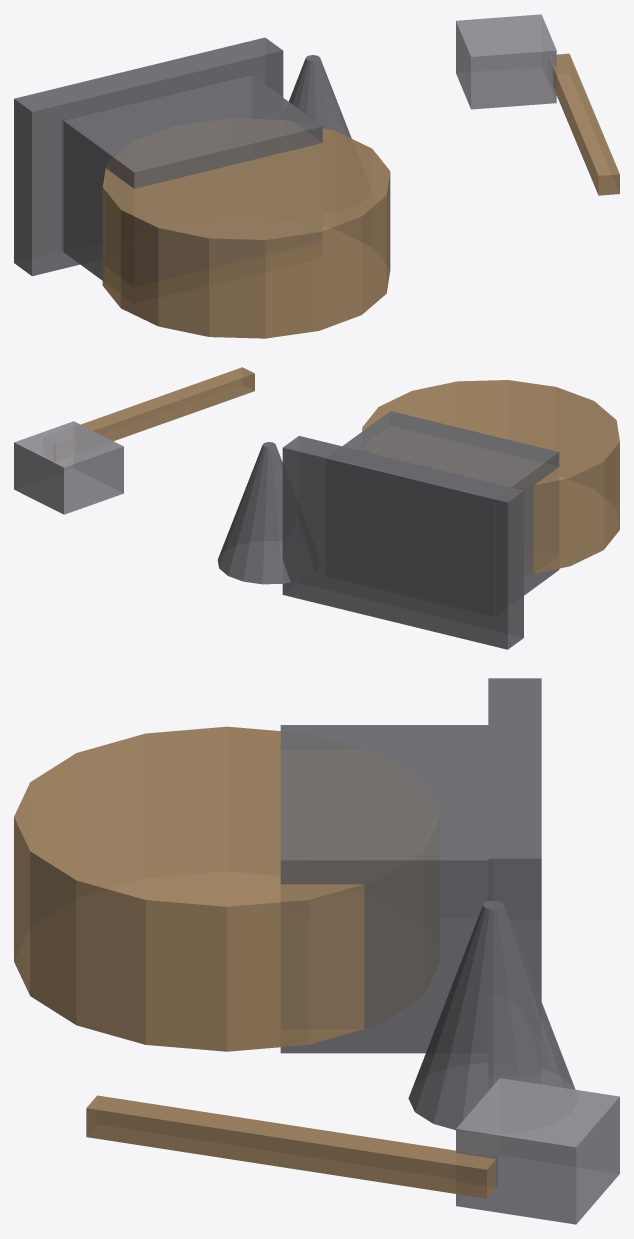
File: anvil_hammer.glb
3 views of the same model, one above another, from view 1: azimuth 30°, elevation 25°; view 2: azimuth 150°, elevation 25°; view 3: azimuth 270°, elevation 25° (orthographic). The views are drawn at different scales.
Parts seen in each view (by area): view 1: Stump, AnvilBody, AnvilFace, HammerHead, HammerHandle, AnvilHorn; view 2: AnvilFace, AnvilBody, Stump, HammerHead, AnvilHorn, HammerHandle; view 3: Stump, AnvilBody, HammerHead, AnvilHorn, HammerHandle, AnvilFace.
Part boxes in pixels (box(x1,y1,x2,y2)): Stump: box(102, 119, 390, 338); AnvilBody: box(62, 74, 322, 286); AnvilFace: box(14, 37, 283, 276); HammerHead: box(456, 14, 556, 109); HammerHandle: box(549, 53, 619, 195); AnvilHorn: box(289, 55, 351, 138); AnvilFace: box(282, 436, 523, 649); AnvilBody: box(326, 411, 559, 616); Stump: box(362, 380, 619, 574); HammerHead: box(14, 421, 123, 514); AnvilHorn: box(217, 442, 314, 584); HammerHandle: box(54, 367, 254, 460); Stump: box(14, 726, 439, 1051); AnvilBody: box(280, 725, 492, 1053); HammerHead: box(456, 1078, 619, 1224); AnvilHorn: box(408, 900, 575, 1130); HammerHandle: box(86, 1095, 497, 1198); AnvilFace: box(488, 678, 541, 1075).
Size of the model in its own units: 8.59 by 2.5 by 5.68.
